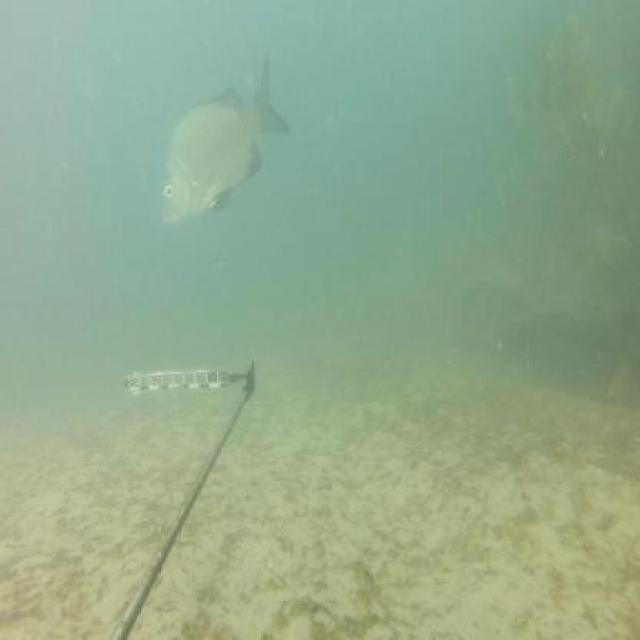acanthopagrus_palmaris: (159, 53, 292, 235)
